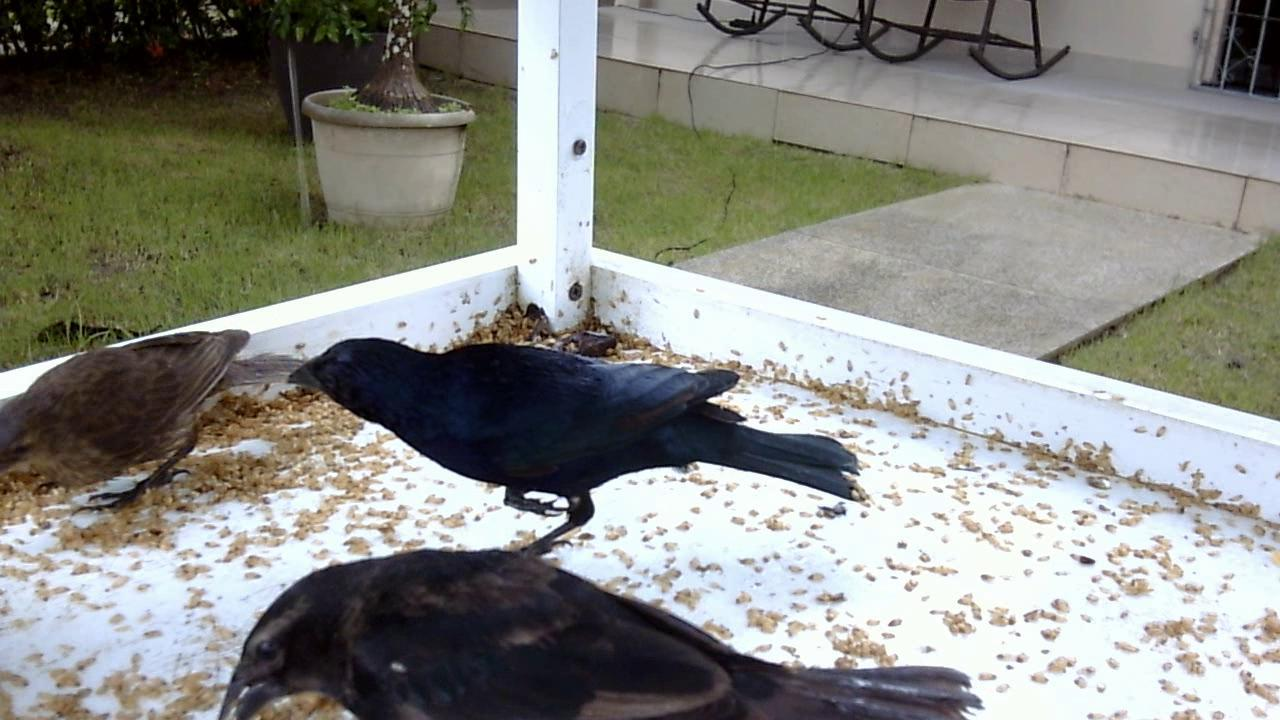chupim: (208, 491, 1015, 720), (260, 310, 887, 575), (4, 318, 283, 534)
